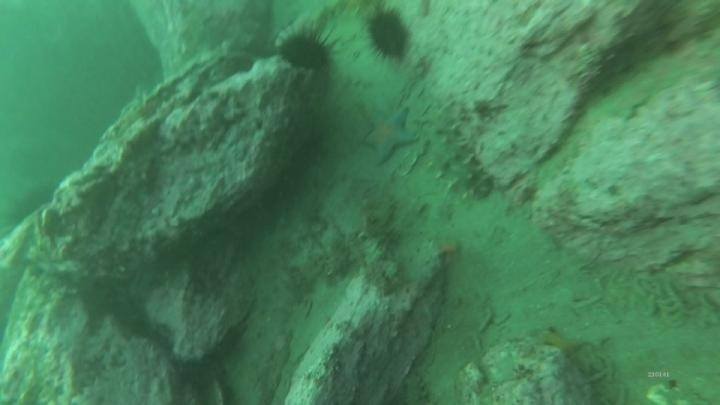echinus: (276, 26, 336, 74), (363, 8, 413, 63)
holothurian: (421, 100, 497, 202)
starfish: (362, 106, 419, 165), (537, 326, 586, 363)
